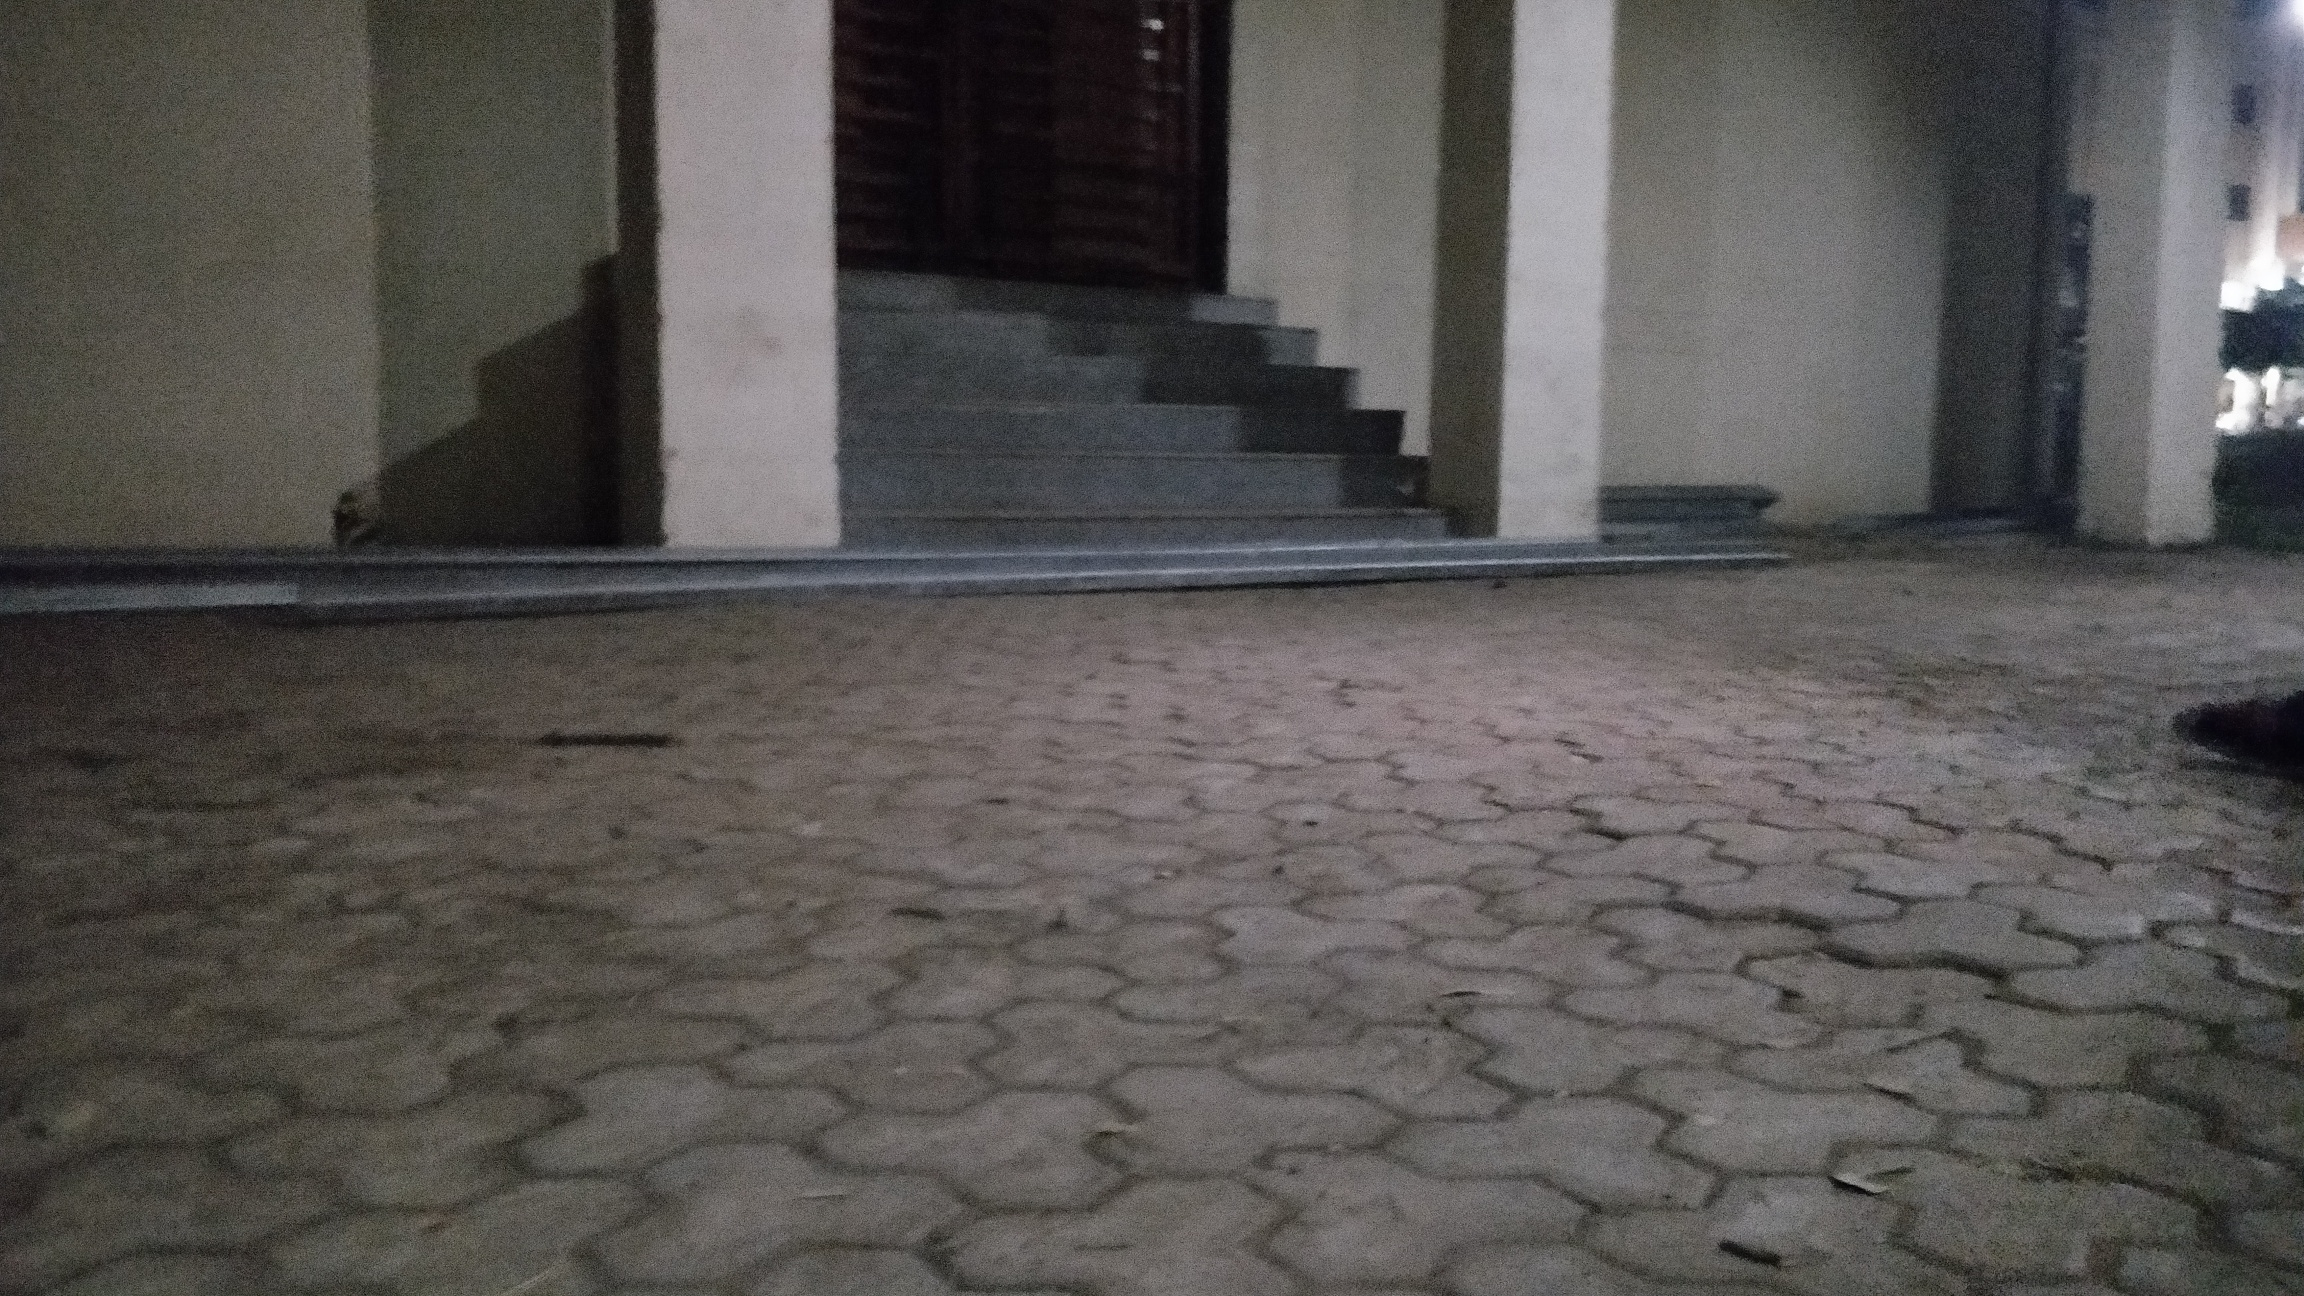stairs_up: (828, 264, 1438, 543)
